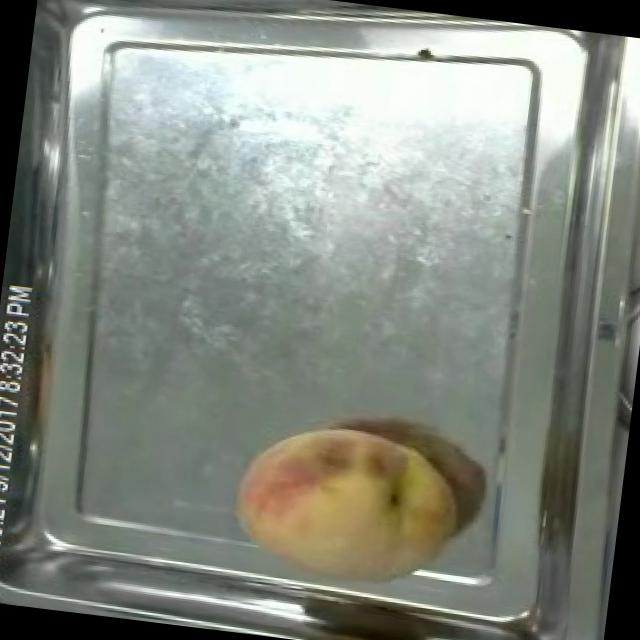Fruit: (209, 404, 476, 616)
